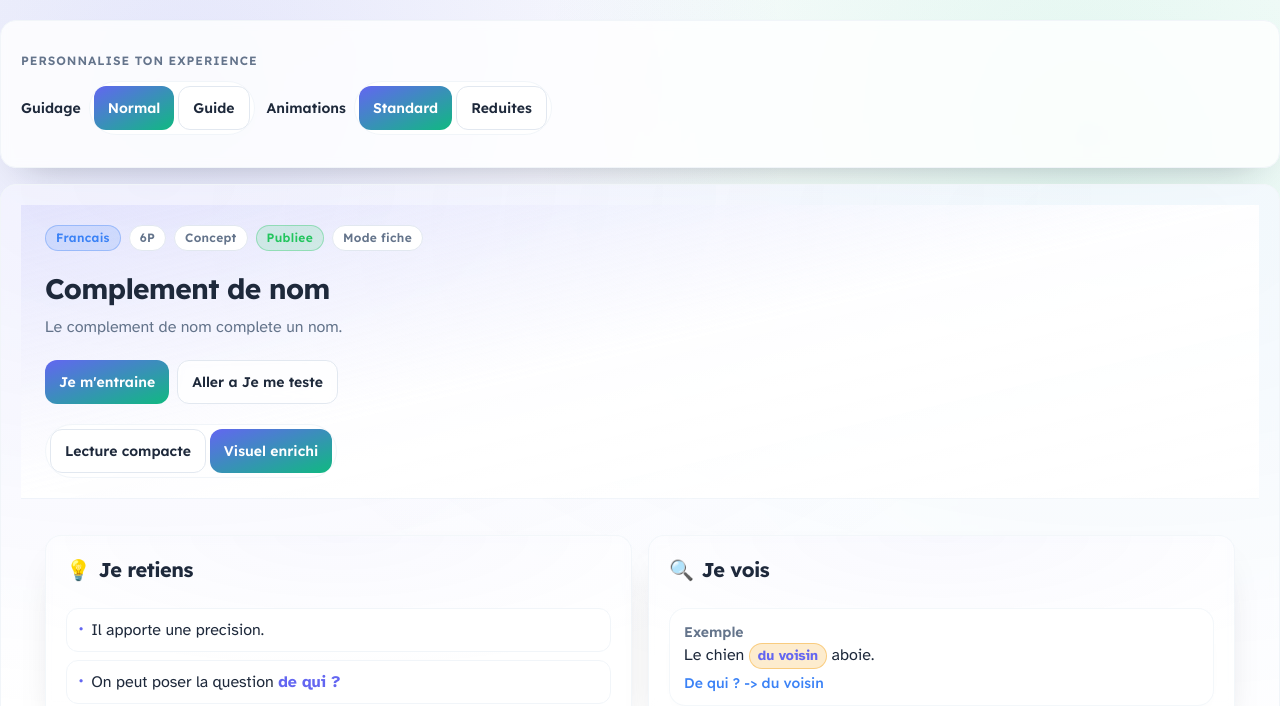
Test: RevisionCardView › shows completion card after visiting all practice steps, then can restart
Click the button with test id "revision-sheet-to-practice" at (107, 382), box [45,360,169,404]
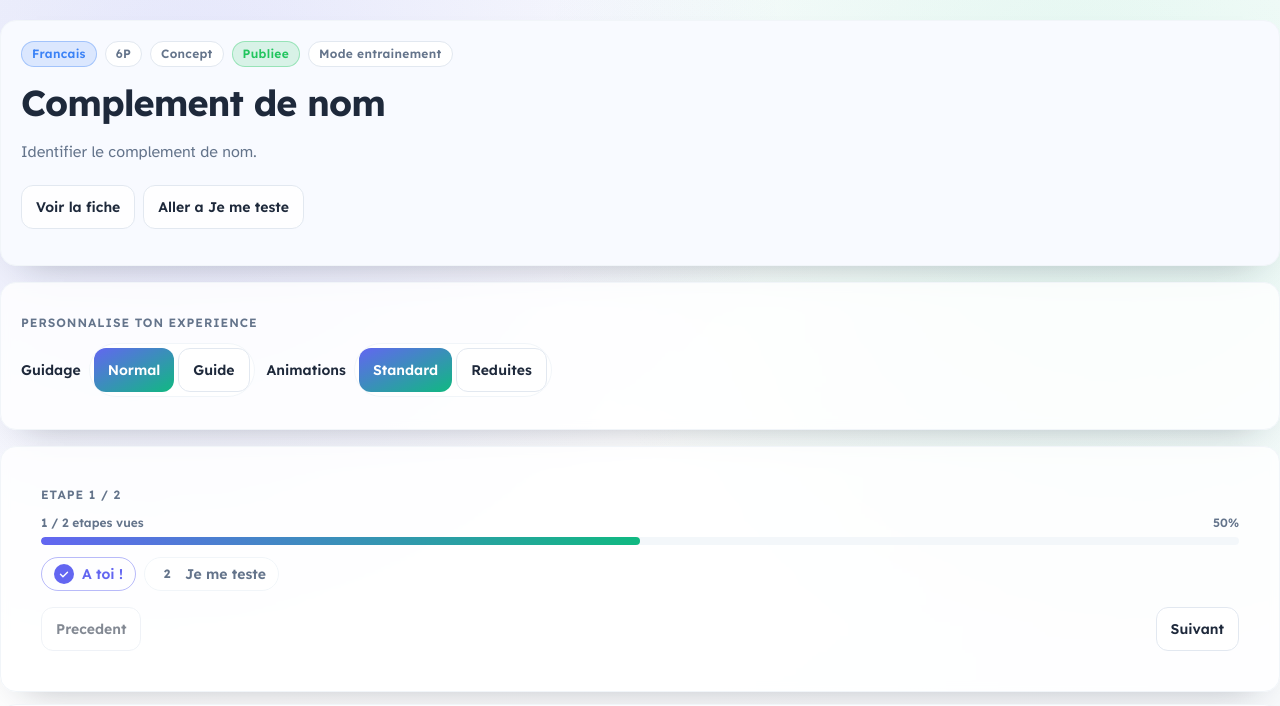
Result: the text with test id "revision-step-progress-label" reads "1 / 2 etapes vues" at [41,515,144,531]
Click the tab with aria-label "Etape 2: Je me teste" at (211, 574), box [144,557,279,591]
(page scrolled)
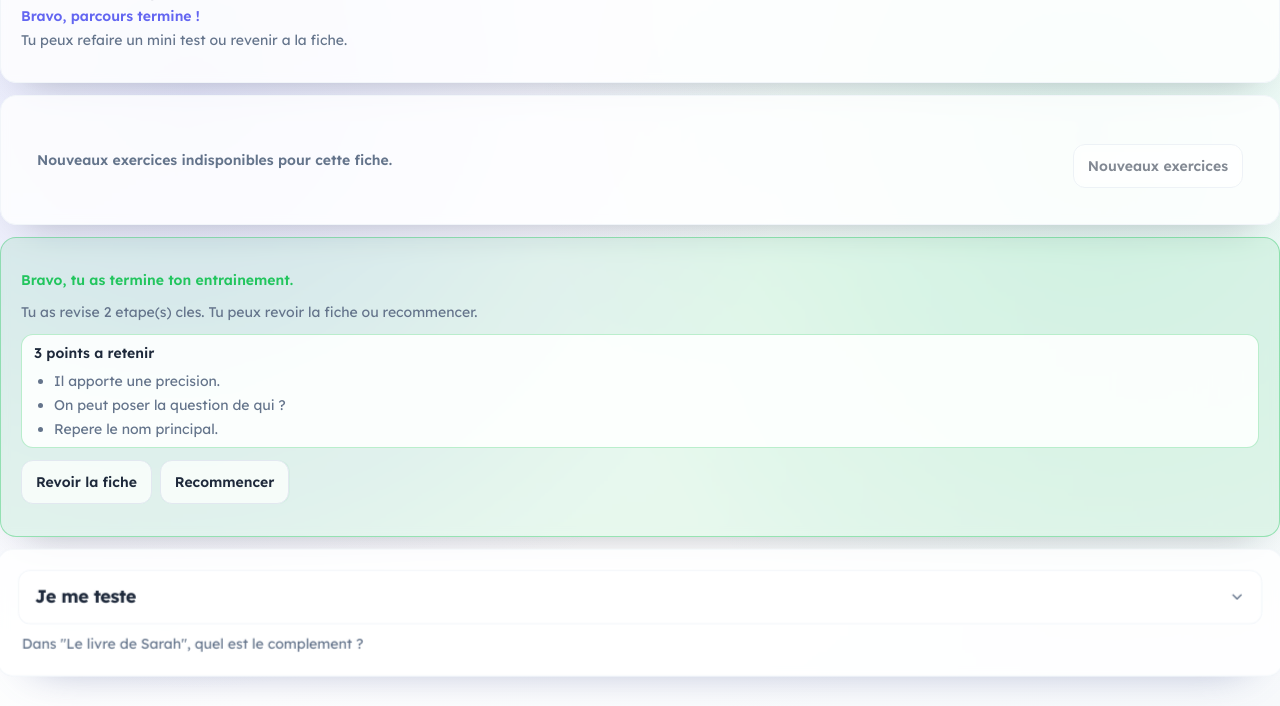
Result: the element with test id "revision-practice-completion" is shown at [0,237,1279,537]
Result: the button with test id "revision-practice-recap" is shown at [21,334,1259,448]
Result: the text "3 points a retenir" is shown at [34,344,154,362]
Click the button with test id "revision-practice-completion-restart" at (225, 482), box [160,460,290,504]
(page scrolled)
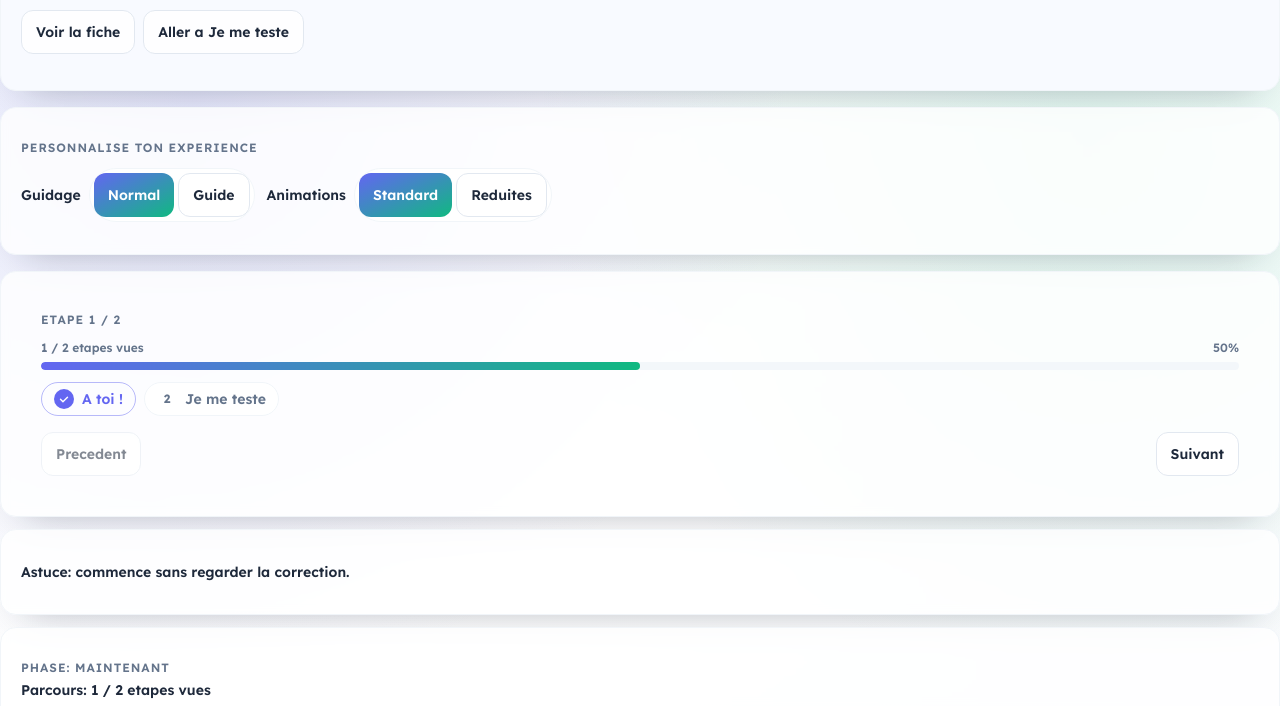
Result: the element with test id "revision-practice-completion" is gone
Result: the text with test id "revision-step-progress-label" reads "1 / 2 etapes vues" at [41,340,144,356]
